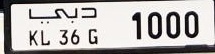character: (183, 10, 199, 38), (164, 11, 180, 38), (147, 11, 162, 39), (130, 10, 143, 40), (39, 28, 50, 46), (87, 28, 98, 45), (58, 28, 68, 46), (28, 28, 37, 46), (70, 28, 79, 45)
